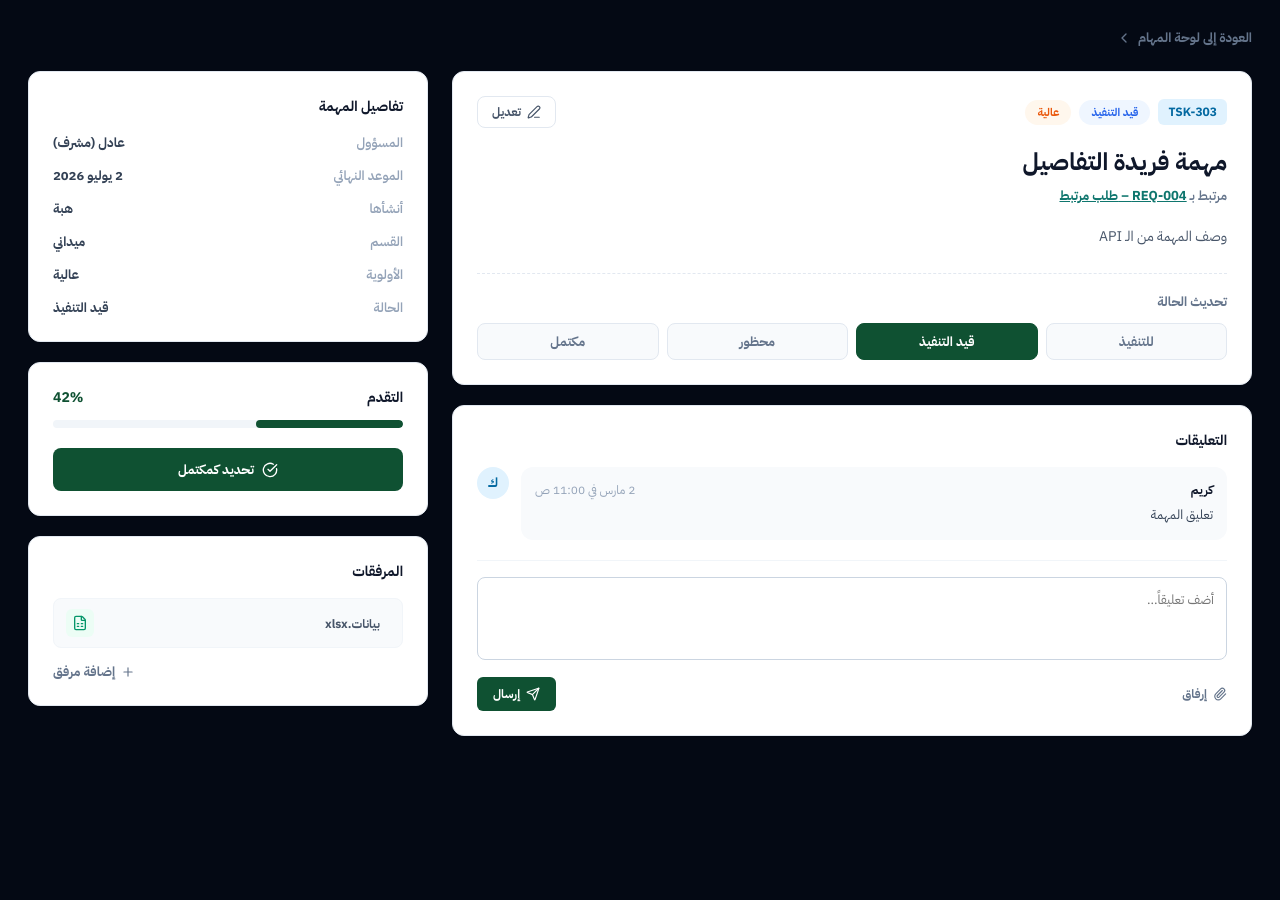
Test: Task detail page › REGRESSION: the page refreshes after an update even though the URL id is a string and the API id a number
Click the button "تحديد كمكتمل" at coordinates (228, 470), box [53,448,403,491]
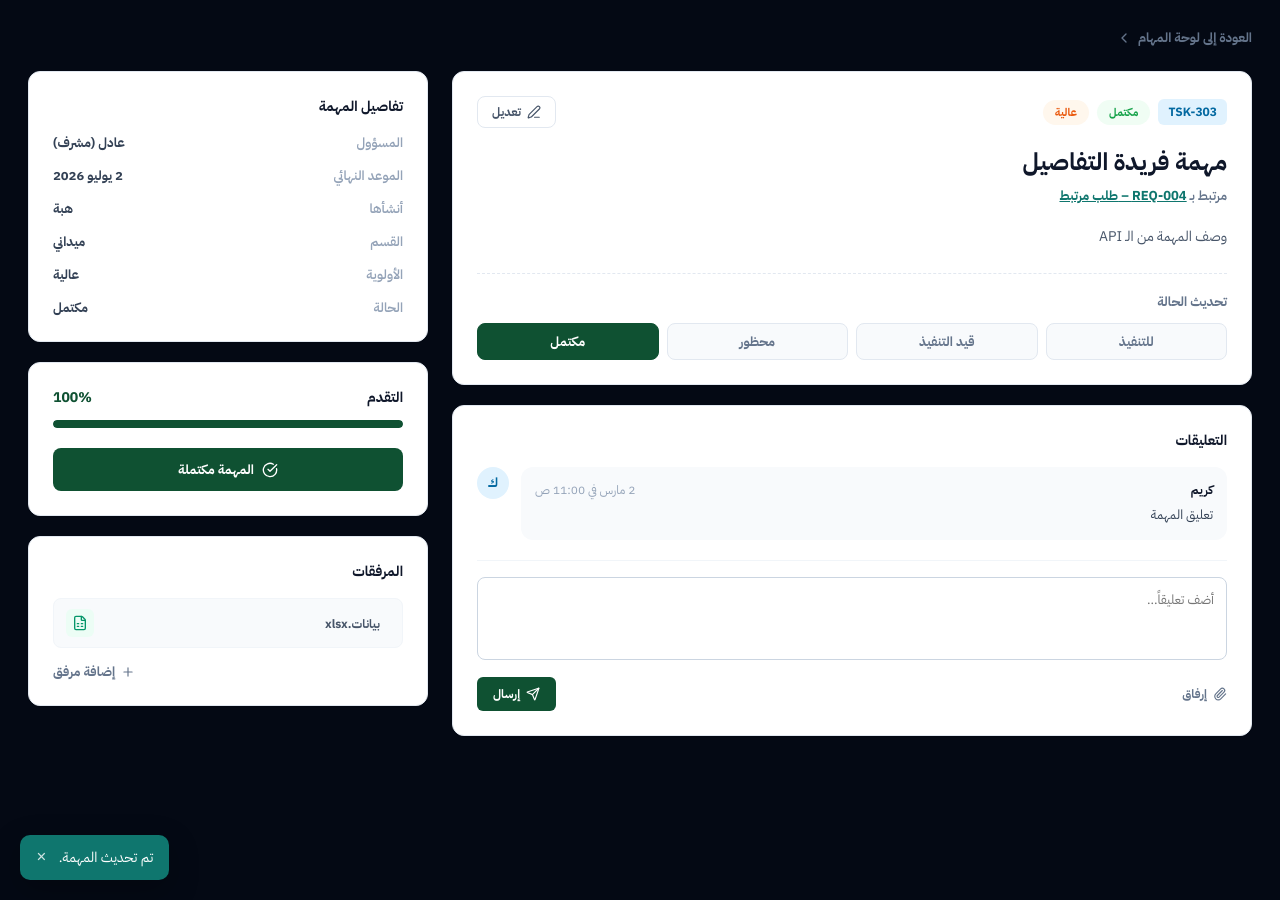
Result: the text "100%" is shown at [53,387,92,408]
Result: the button "المهمة مكتملة" is disabled at [53,448,403,491]
